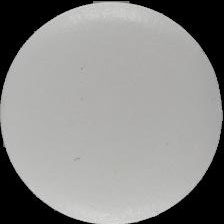10544-201: (0, 0, 224, 224)
